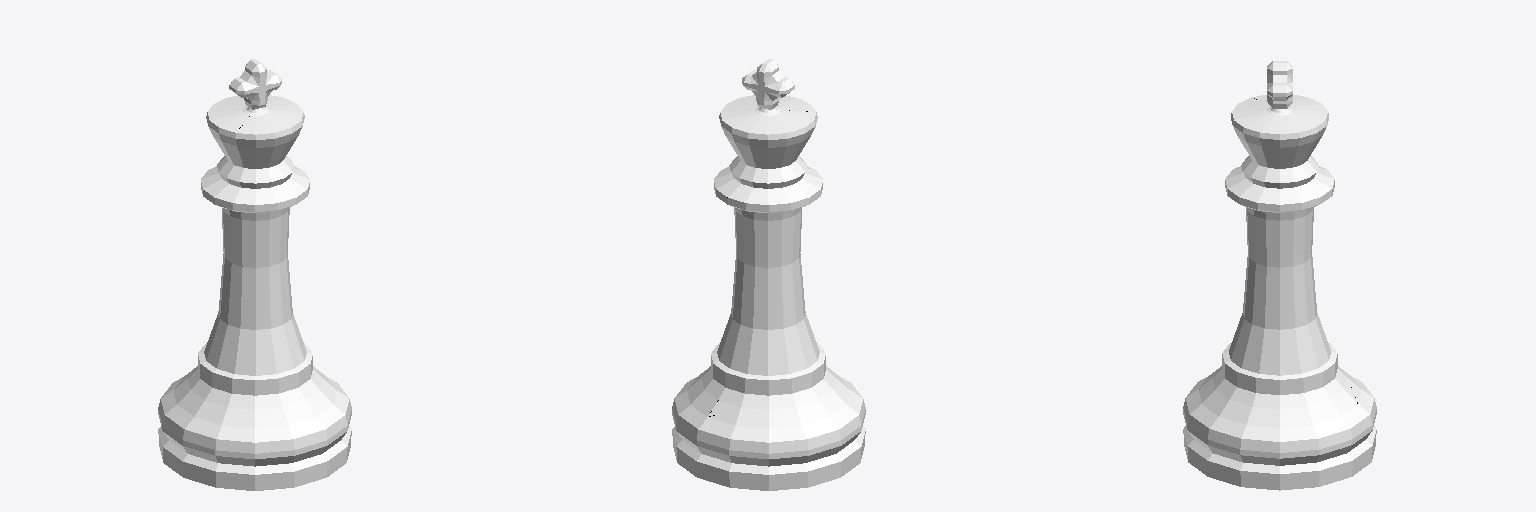
3 renders of one model, left to right at view 1: azimuth 30°, elevation 25°; view 2: azimuth 150°, elevation 25°; view 3: azimuth 270°, elevation 25°, orthographic.
Visible parts, largest first — view 1: pieces; view 2: pieces; view 3: pieces.
Part boxes in pixels (bbox=[...]): pieces: bbox=[158, 59, 351, 490]; pieces: bbox=[672, 59, 865, 490]; pieces: bbox=[1183, 61, 1376, 490].
Size of the model in its own units: 0.9665 by 2.15 by 0.9719.
Materials: 1 (1 with a texture image).